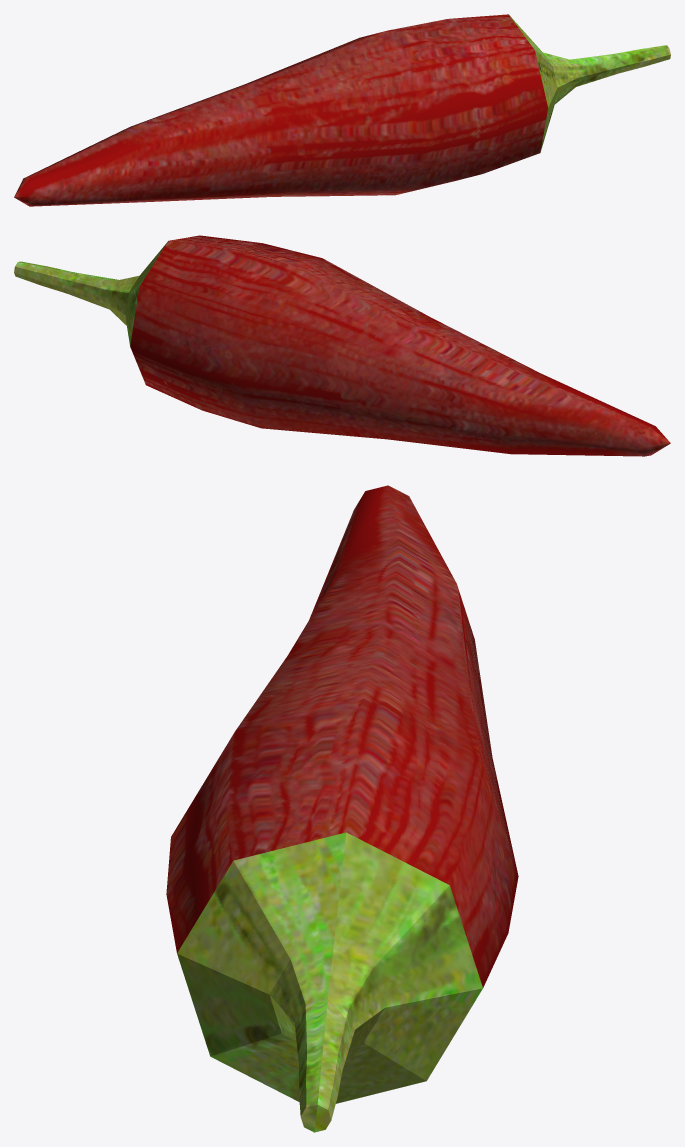
Rendered from SM_Chilli.fbx.
3 views of the same model, one above another, from view 1: azimuth 30°, elevation 25°; view 2: azimuth 150°, elevation 25°; view 3: azimuth 270°, elevation 25° (orthographic). The views are drawn at different scales.
Visible parts, largest first — view 1: SM_Chilli; view 2: SM_Chilli; view 3: SM_Chilli.
Part boxes in pixels (x1,y1,x2,y2): SM_Chilli: [14, 14, 670, 206]; SM_Chilli: [14, 235, 670, 456]; SM_Chilli: [166, 485, 518, 1132].
Bounding box in the file's own units: 1.46 × 0.3449 × 0.3491.
